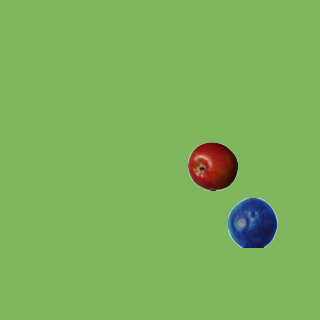Apple Braeburn: (187, 141, 237, 191)
Huckleberry: (227, 197, 277, 247)
